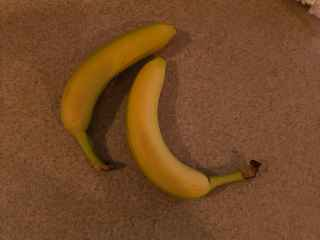banana: (123, 55, 263, 202), (57, 22, 179, 176)
